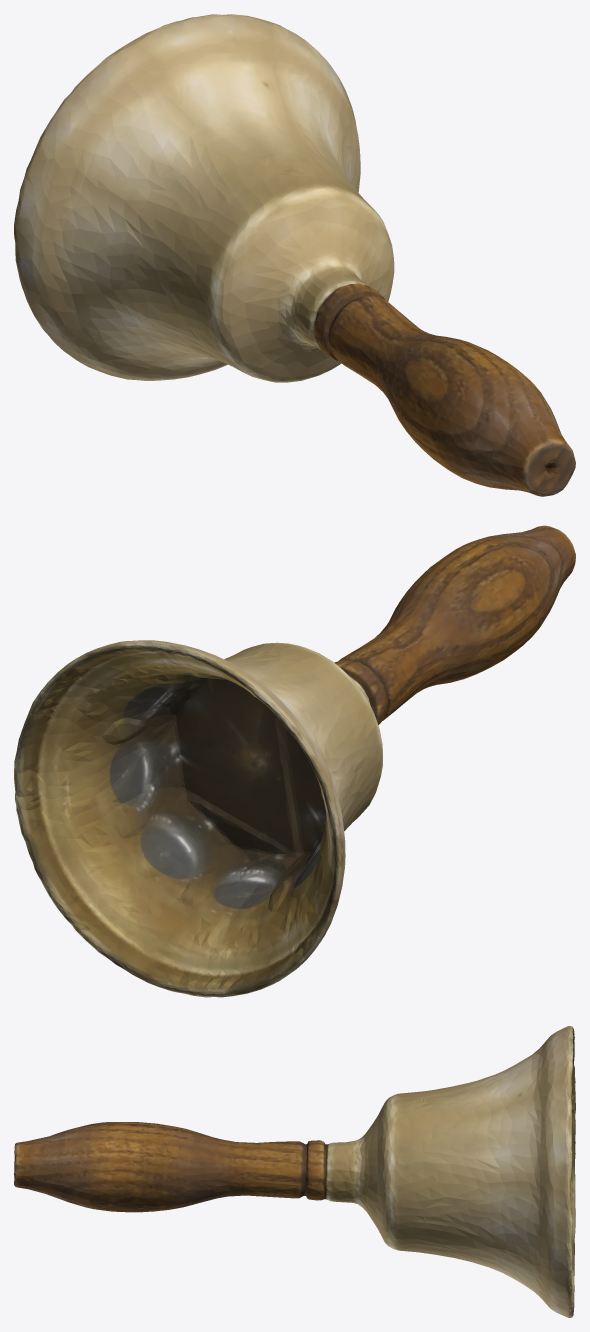
The model's file is bell.glb.
The picture shows the model from 3 angles, top to bottom: view 1: azimuth 30°, elevation 25°; view 2: azimuth 150°, elevation 25°; view 3: azimuth 270°, elevation 25°; orthographic projection. The views are drawn at different scales.
Visible parts, largest first — view 1: geometry_0; view 2: geometry_0; view 3: geometry_0.
Boxes of the visible parts, x1,y1,x2,y2 form: geometry_0: [14, 14, 575, 496]; geometry_0: [14, 525, 575, 997]; geometry_0: [14, 1026, 575, 1317].
Size of the model in its own units: 0.5199 by 0.5199 by 1.
1 material, 1 textured.
